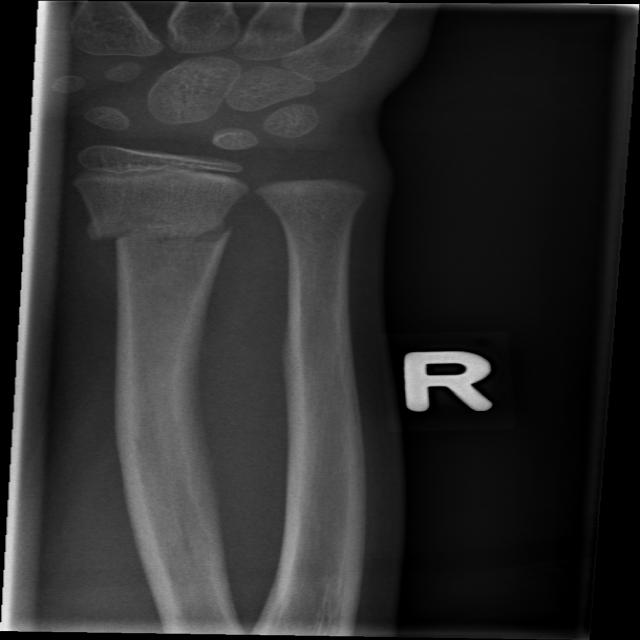radius fracture: (64, 199, 260, 295)
